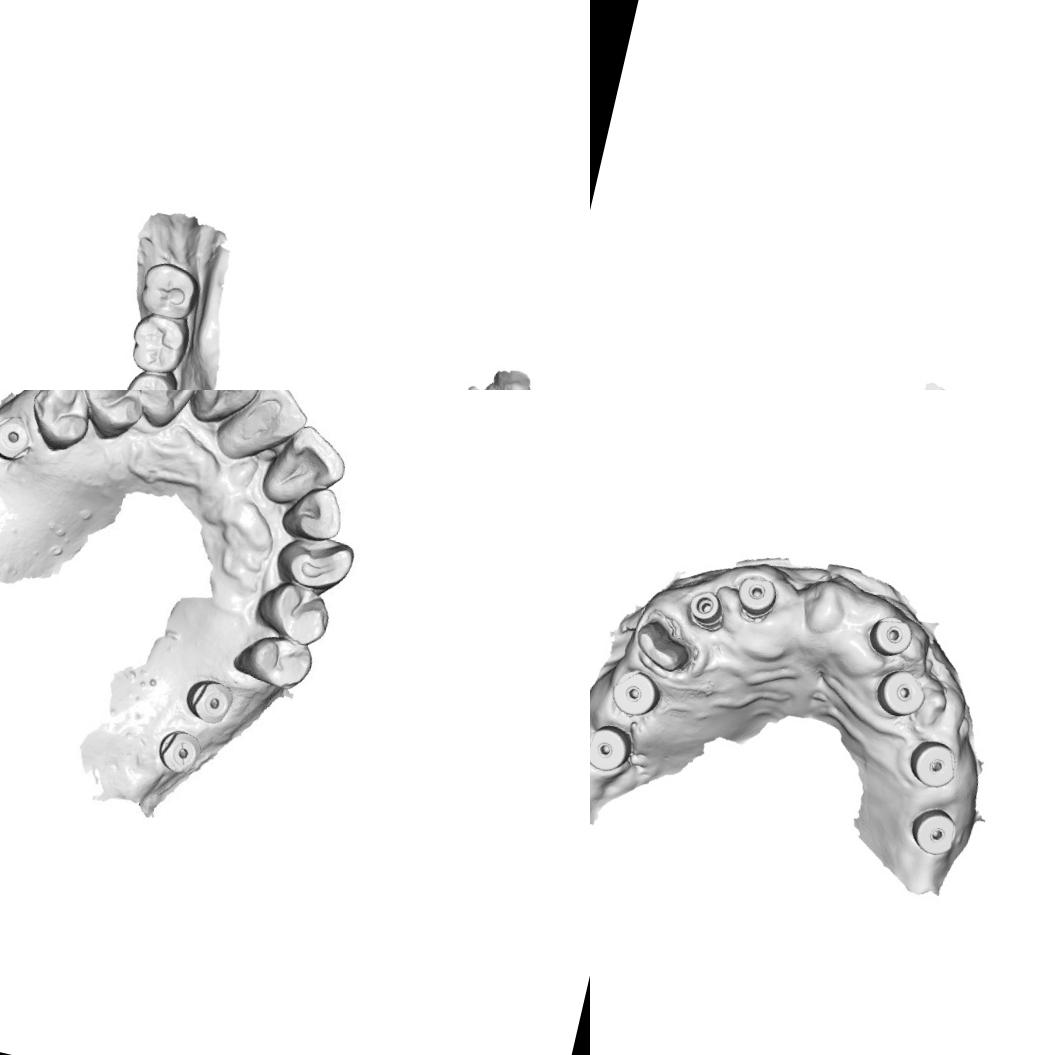canine: (280, 533, 358, 601), (136, 390, 207, 432)
crown: (628, 615, 704, 681)
implant: (605, 664, 666, 722), (871, 664, 931, 722), (903, 735, 962, 793), (905, 802, 962, 859), (185, 673, 240, 726), (730, 570, 781, 626), (864, 610, 918, 662), (590, 719, 636, 777), (684, 586, 730, 636), (0, 409, 34, 460)
implant_minus: (154, 724, 207, 782)
incisor: (215, 390, 312, 472), (264, 420, 350, 509), (285, 483, 344, 543), (190, 390, 263, 431)
molar: (123, 310, 195, 382), (135, 256, 204, 324)
premolar: (242, 628, 314, 696), (25, 390, 102, 451), (263, 580, 336, 642), (82, 390, 150, 439), (118, 367, 180, 390)
